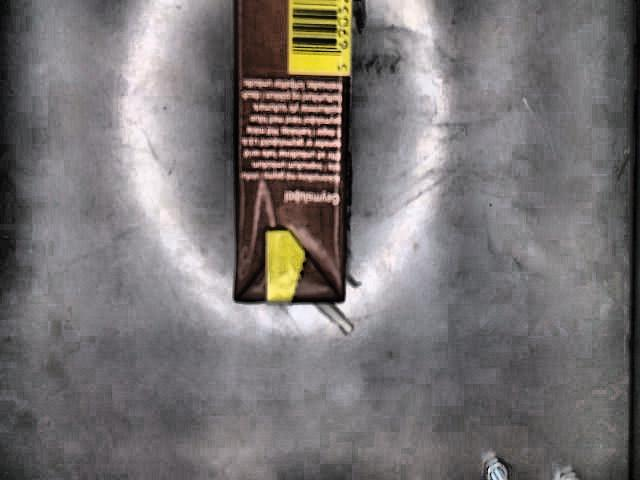Paper: (234, 0, 355, 341)
